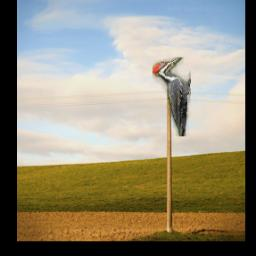Woodpecker: (152, 58, 190, 137)
